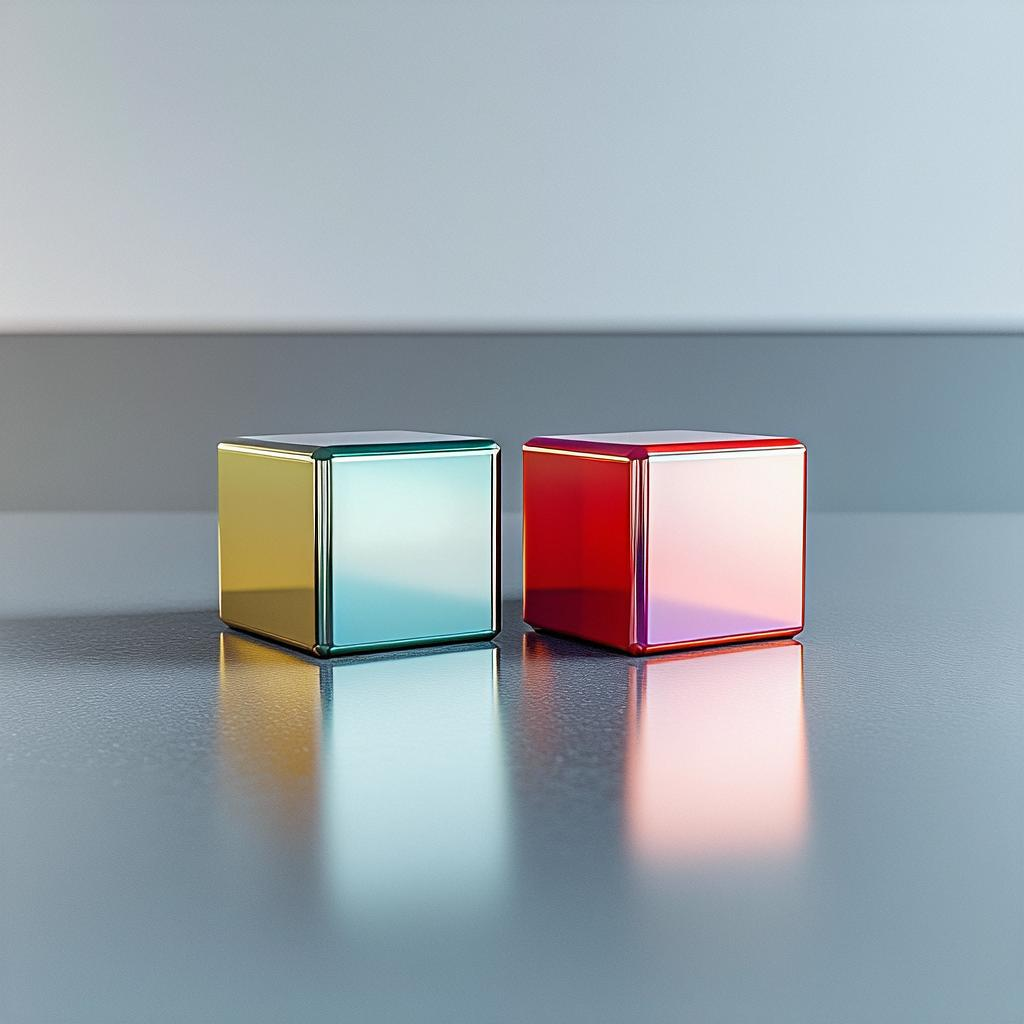cube: (216, 428, 501, 658), (520, 427, 806, 655)
